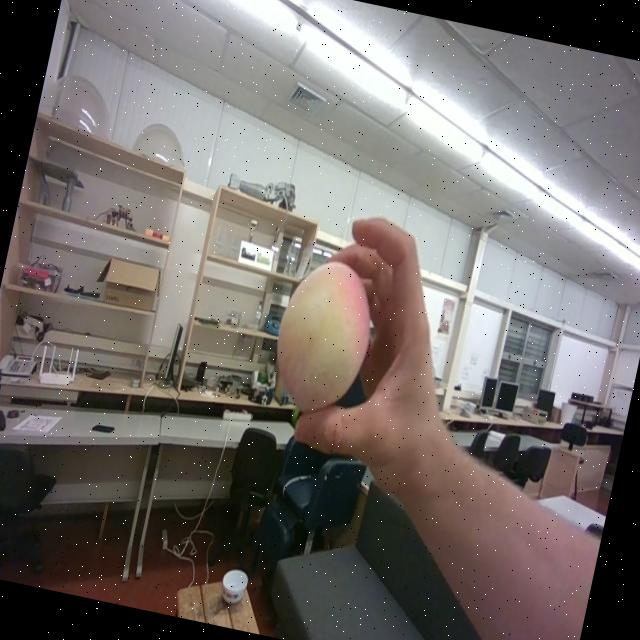peach: (278, 261, 369, 410)
